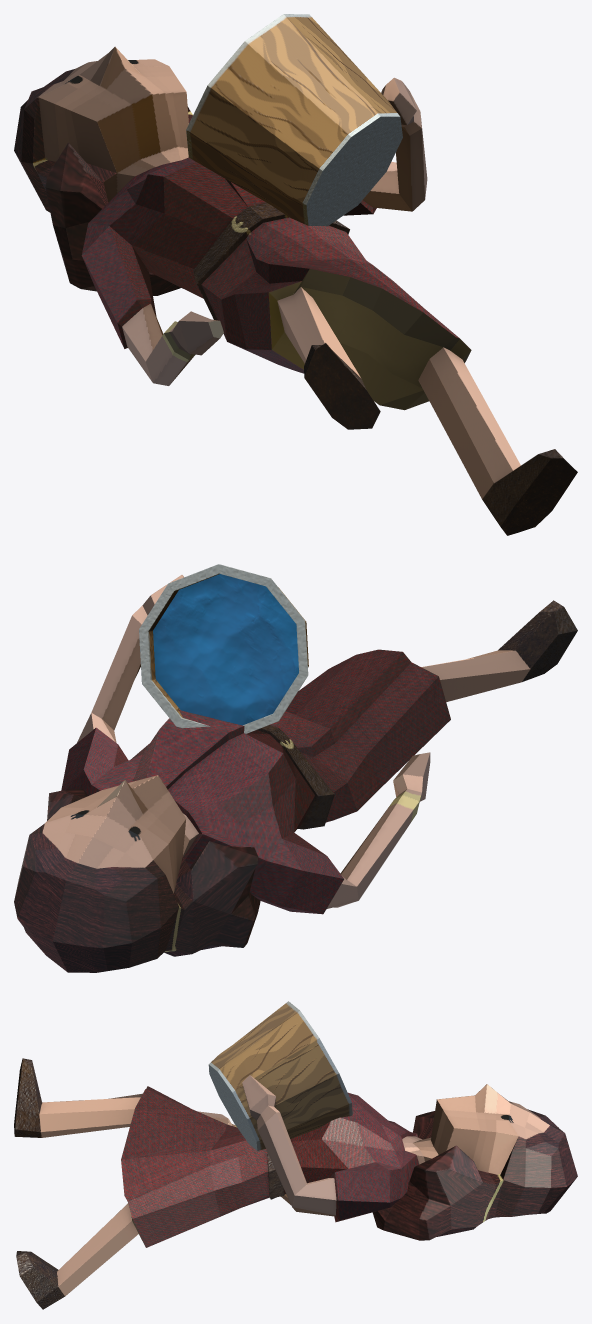
The model's file is Walk_Aldeana_7.obj.
The picture shows the model from 3 angles, top to bottom: view 1: azimuth 30°, elevation 25°; view 2: azimuth 150°, elevation 25°; view 3: azimuth 270°, elevation 25°; orthographic projection. The views are drawn at different scales.
Parts seen in each view (by area): view 1: Aldeana.001; view 2: Aldeana.001; view 3: Aldeana.001.
Boxes of the visible parts, bbox=[...] form: Aldeana.001: bbox=[14, 14, 577, 535]; Aldeana.001: bbox=[14, 564, 577, 972]; Aldeana.001: bbox=[14, 1001, 577, 1309].
Bounding box in the file's own units: 1.09 × 1.31 × 2.38.
